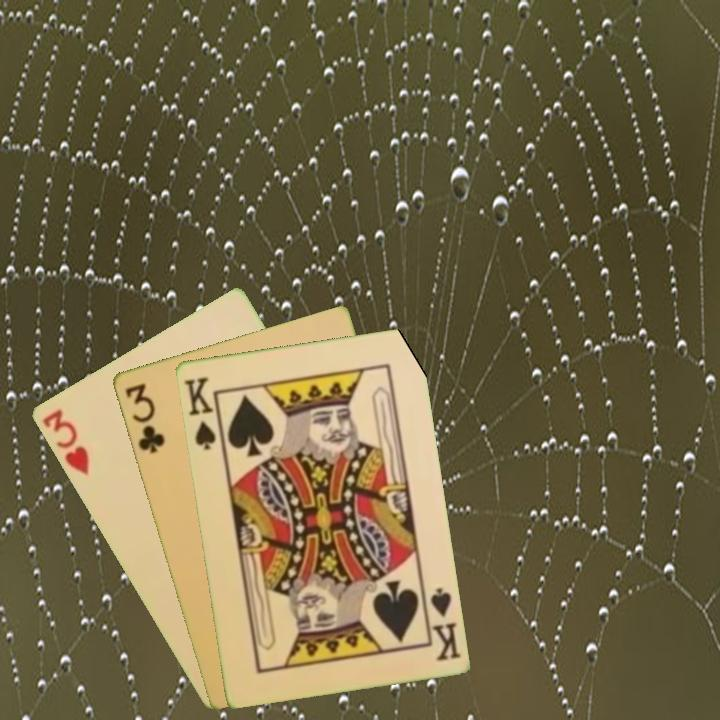3c: (121, 379, 167, 457)
3h: (38, 405, 92, 478)
Ks: (179, 373, 225, 453), (419, 584, 464, 664)
